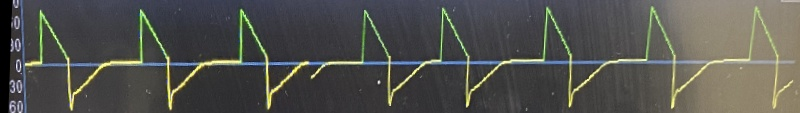normal_flow: (26, 0, 800, 113)
